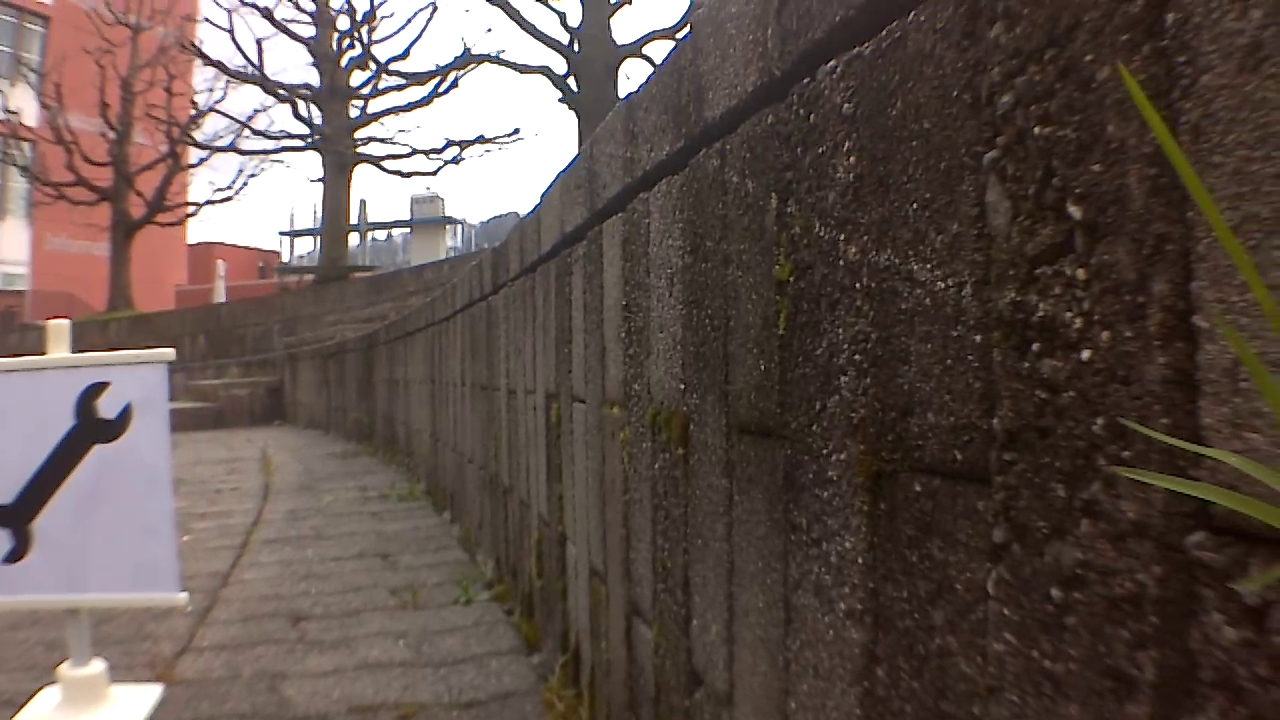wrench: (0, 384, 132, 566)
